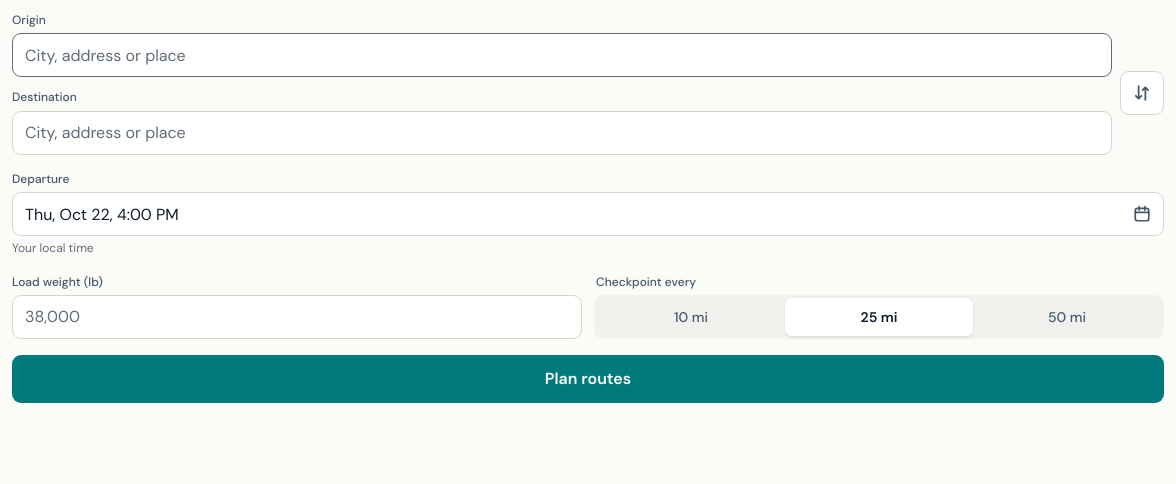
Scenario: TripForm › shows what to fix and moves to the first problem instead of sending an incomplete trip
The width and height of the screenshot is (1176, 484).
Click the button "Plan routes" at (588, 379), box [12,355,1164,403]
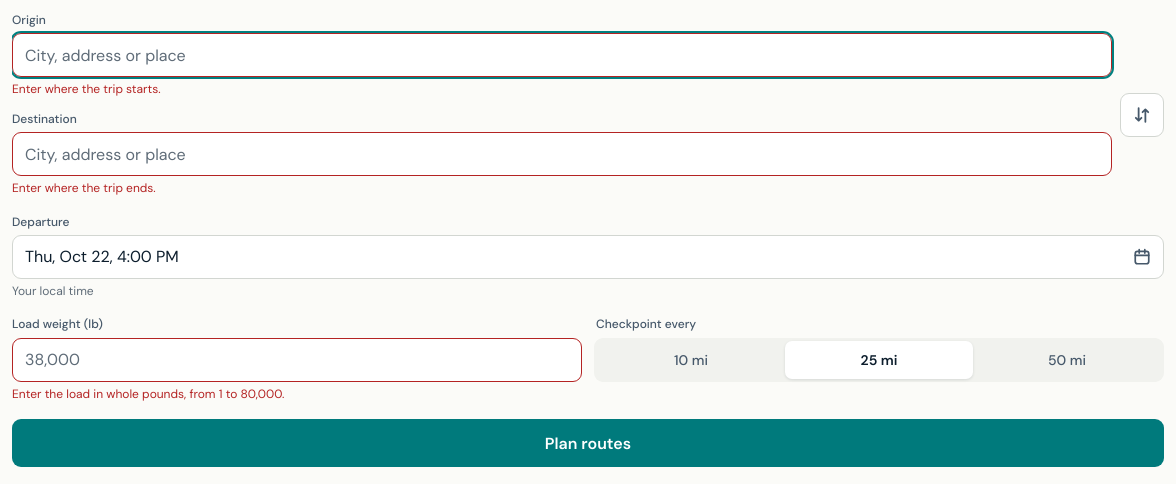
Result: the text "Enter where the trip starts." is shown at [12,81,161,97]
Result: the text "Enter where the trip ends." is shown at [12,180,156,196]
Result: the text "Enter the load in whole pounds, from 1 to 80,000." is shown at [12,386,284,402]
